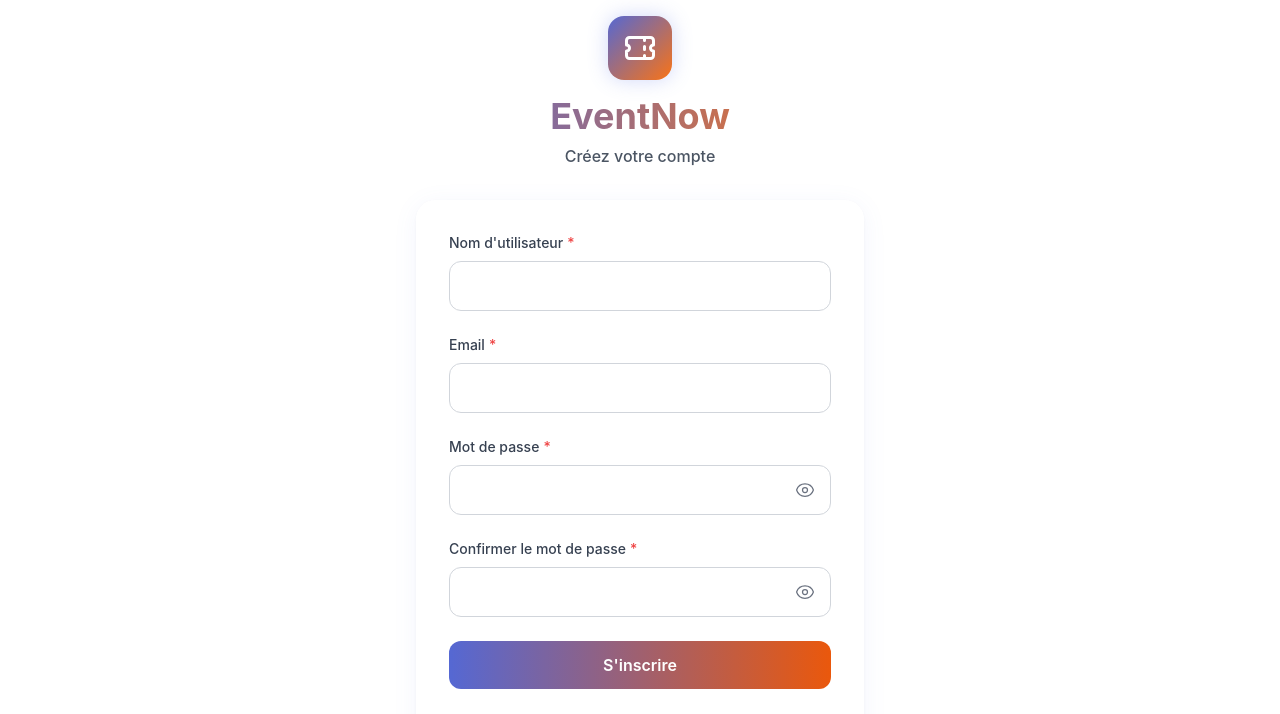
Test: RegisterPage - submission › falls back to a default error message
In the field labelled "Nom d'utilisateur*": coordinates (640, 286) x1=449 y1=261 x2=831 y2=311, type "alice"
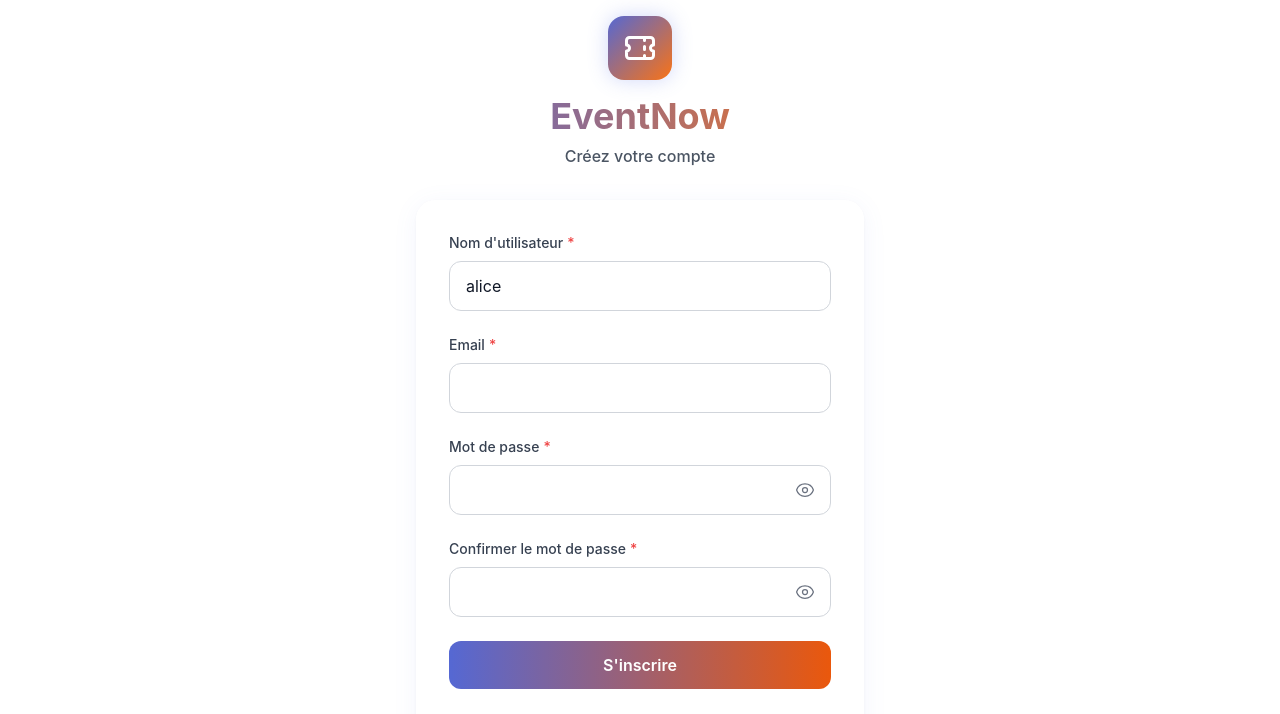
In the field labelled "Email*": coordinates (640, 388) x1=449 y1=363 x2=831 y2=413, type "alice@example.com"
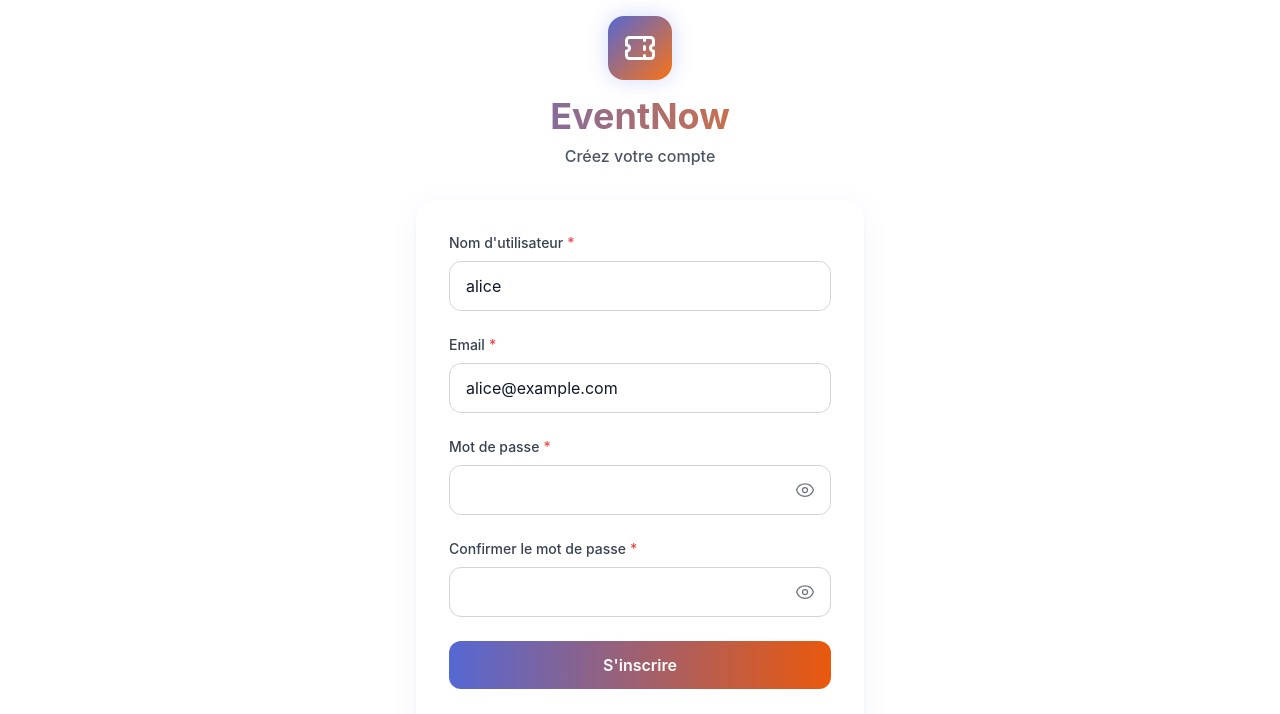
In the password field labelled "Mot de passe*": coordinates (640, 490) x1=449 y1=465 x2=831 y2=515, type "password123"
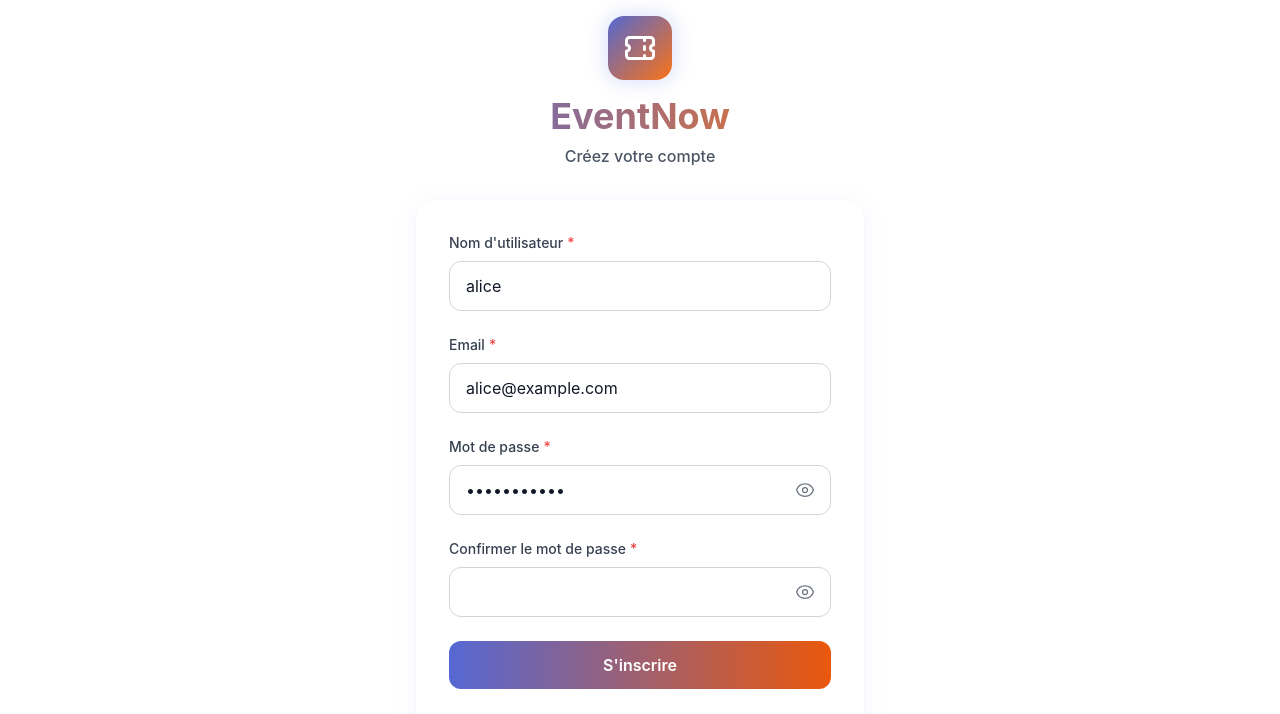
In the password field labelled "Confirmer le mot de passe*": coordinates (640, 592) x1=449 y1=567 x2=831 y2=617, type "password123"
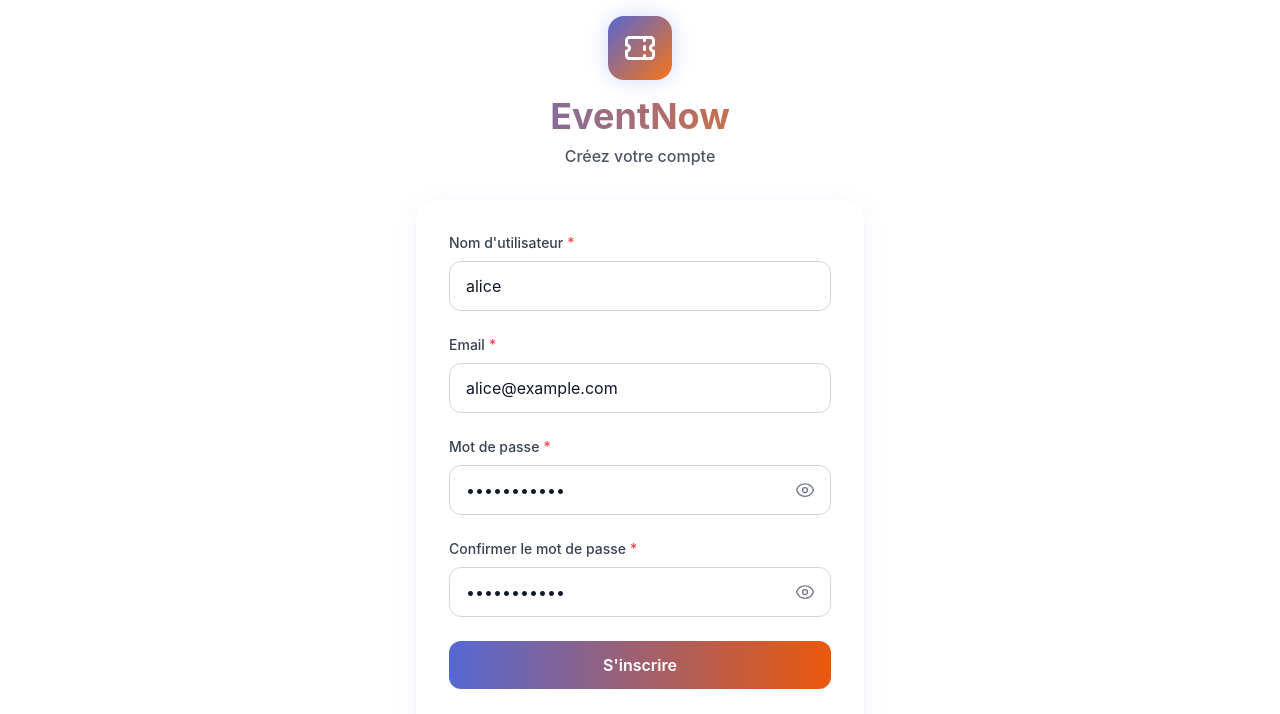
Click the button "S'inscrire": coordinates (640, 665) x1=449 y1=641 x2=831 y2=689
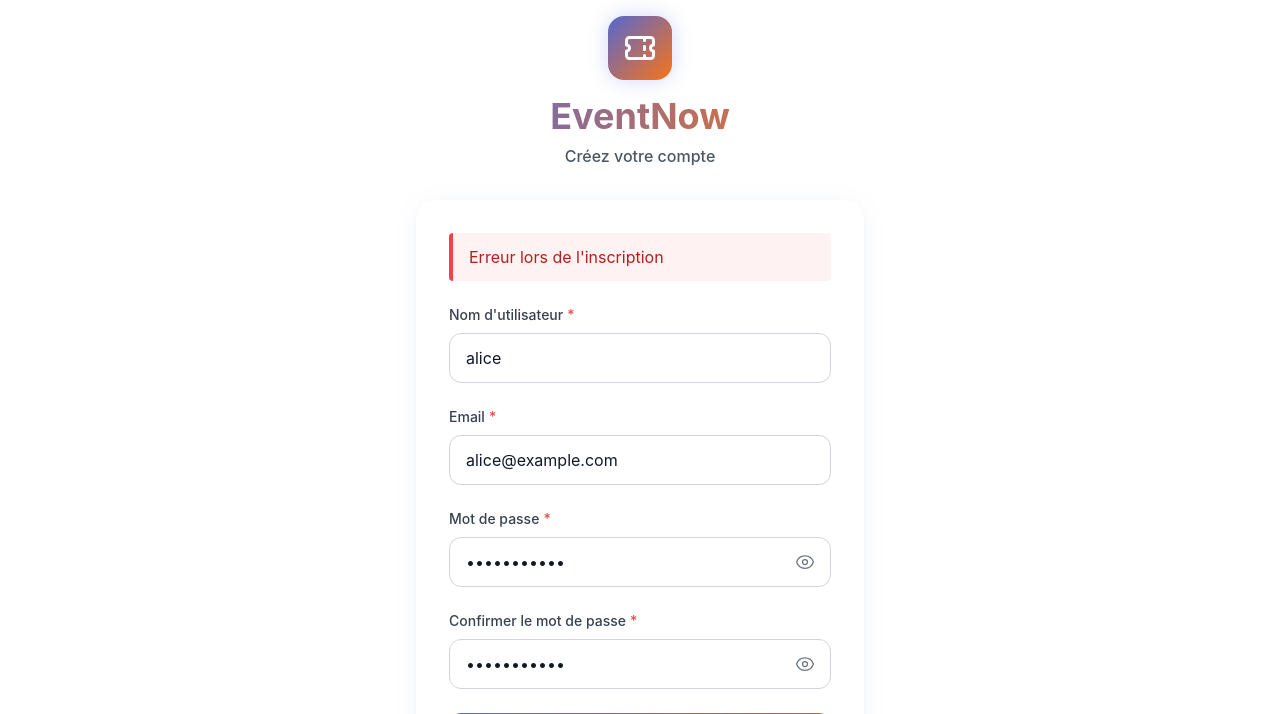
Check: the text "Erreur lors de l'inscription" is shown, box x1=469 y1=245 x2=664 y2=269
